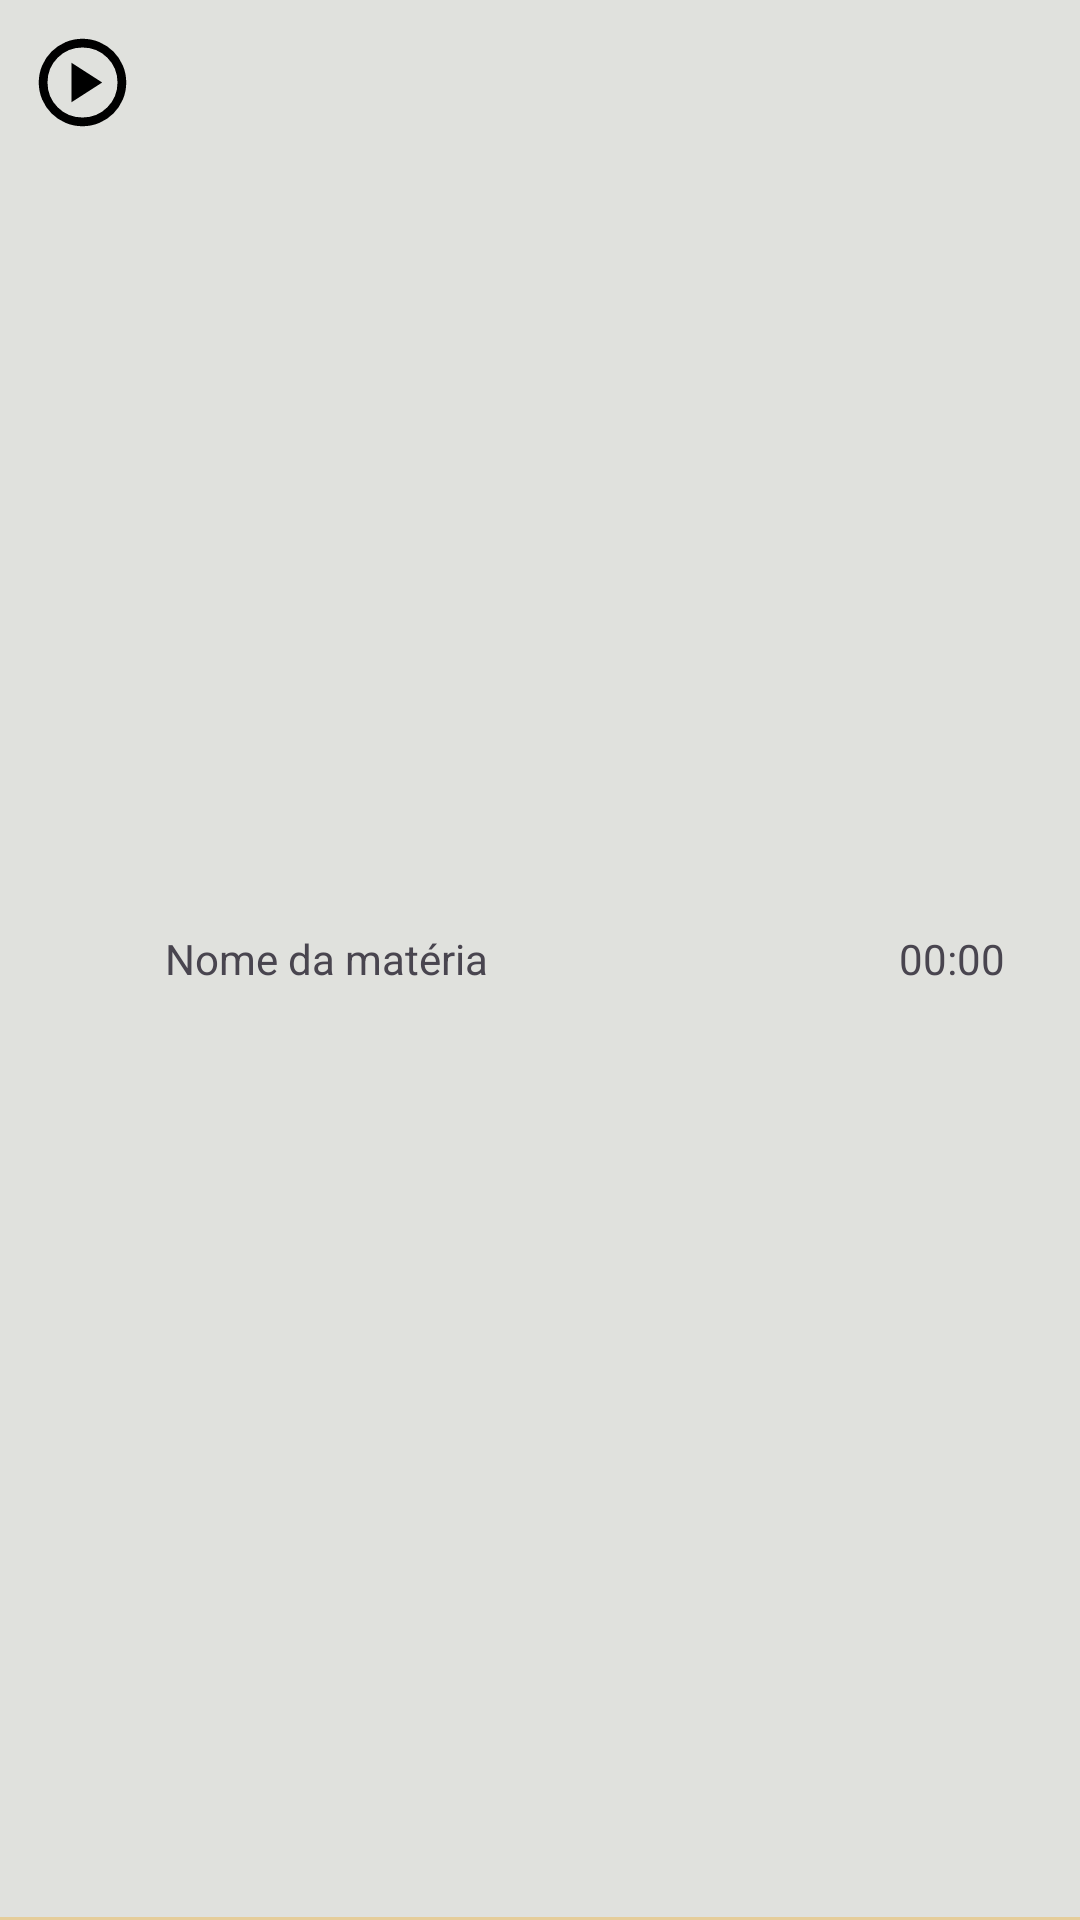

Icons on this 1080 x 1920 Android screen, each with its box as [left=x1, top=y1, right=x2, bottom=y2]:
play: [left=38, top=38, right=127, bottom=127]
